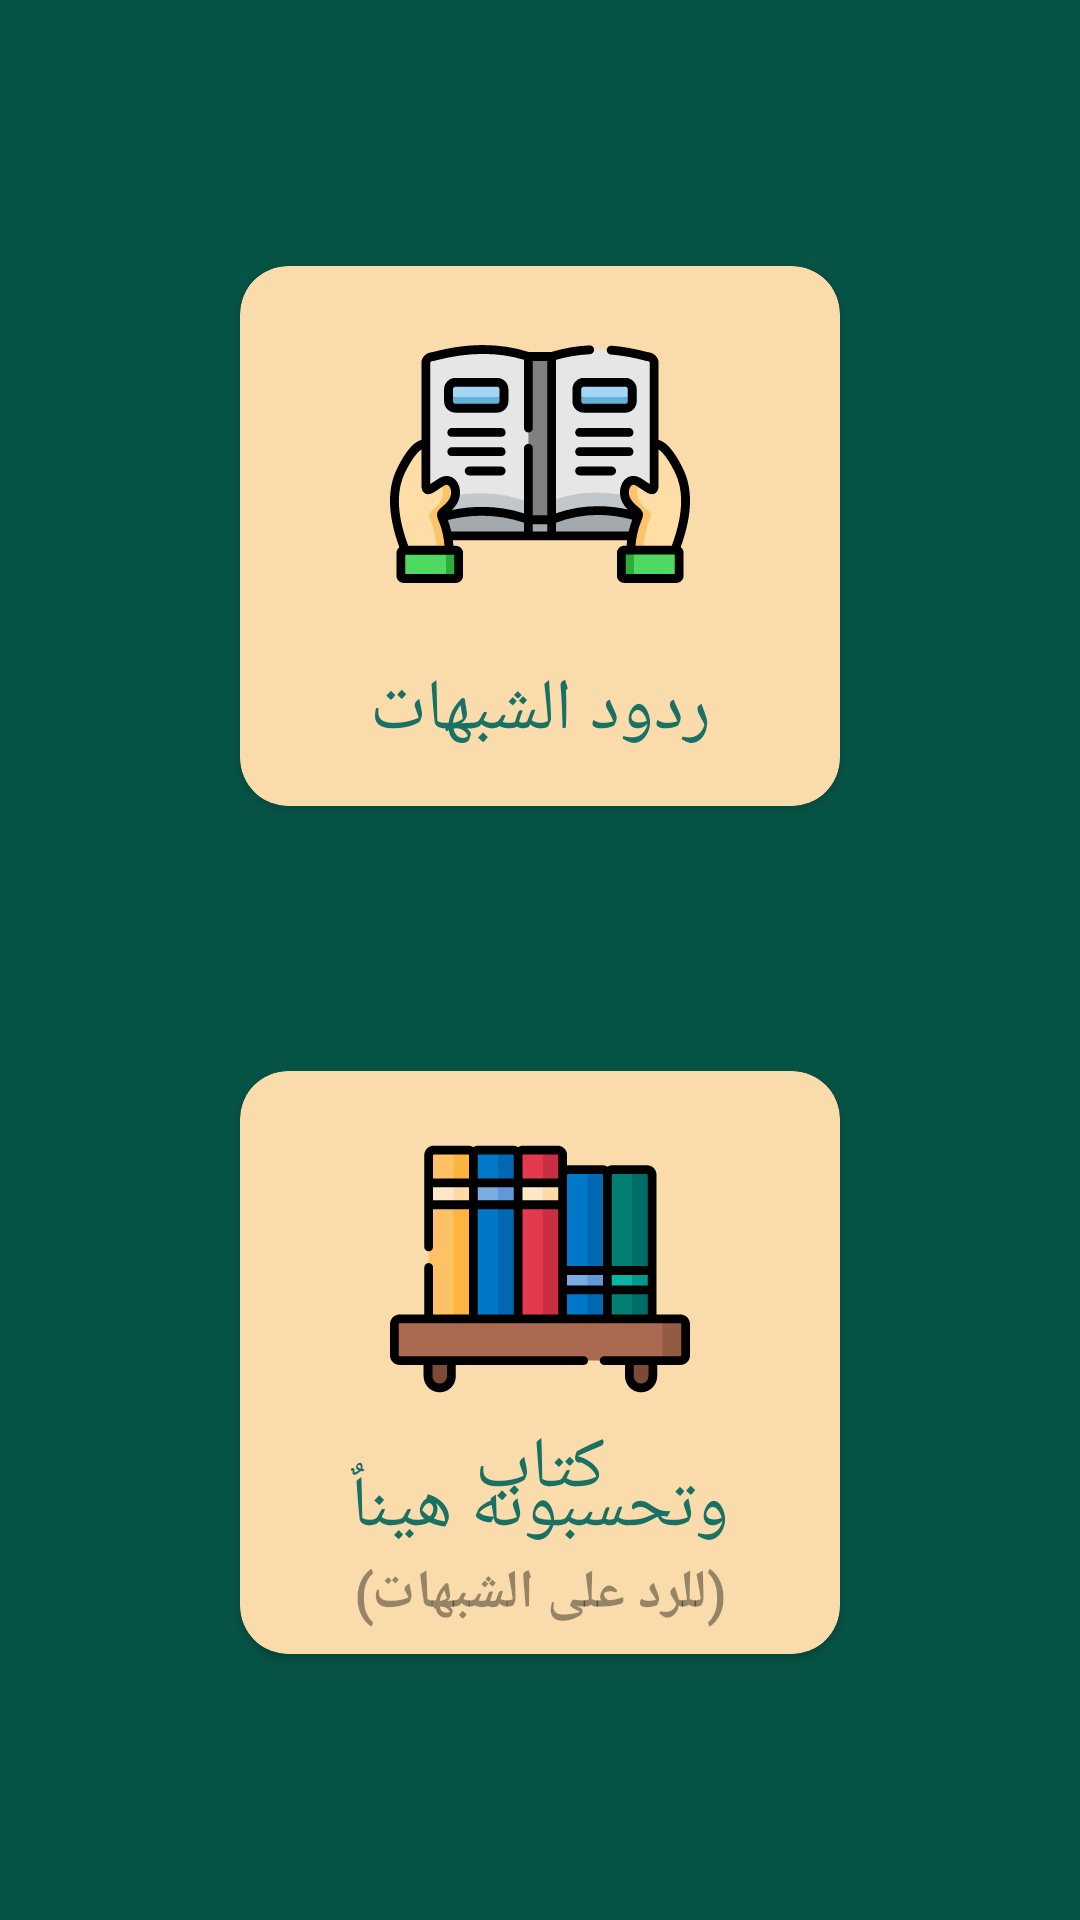

Where icons sit on this 1080px×1920px app screen, as (x1, y1, x2, y2):
reading book: (390, 345, 690, 583)
